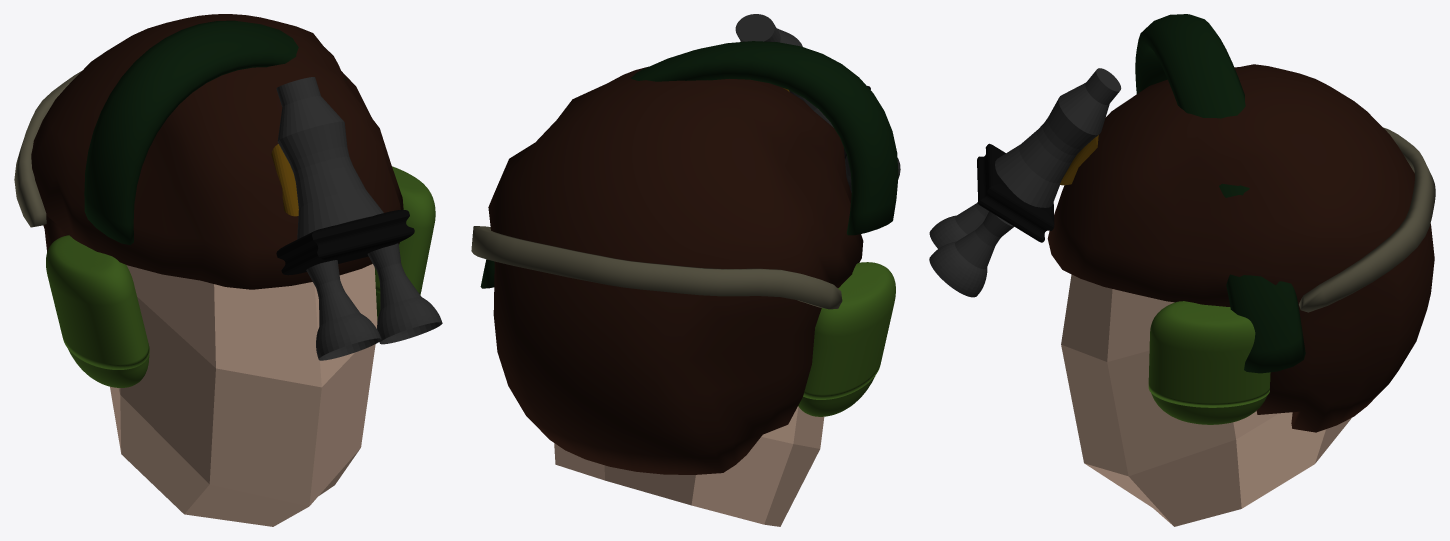
File: Character_Head.fbx
3 renders of one model, left to right at view 1: azimuth 30°, elevation 25°; view 2: azimuth 150°, elevation 25°; view 3: azimuth 270°, elevation 25°, orthographic. The views are drawn at different scales.
Parts seen in each view (by area): view 1: head, 球体, 环体.001, 柱体, 柱体.002, 立方体.001, 柱体.003, 柱体.004, 平面, 立方体; view 2: 球体, 环体.001, head, 平面, 柱体, 柱体.002; view 3: 球体, head, 环体.001, 柱体, 柱体.002, 平面, 柱体.004, 立方体.001, 柱体.003.
Part boxes in pixels (x1,y1,x2,y2): head: [110, 264, 377, 526]; 球体: [31, 14, 403, 289]; 环体.001: [84, 20, 346, 245]; 柱体: [46, 166, 435, 387]; 柱体.002: [276, 77, 383, 239]; 立方体.001: [276, 209, 414, 275]; 柱体.003: [306, 260, 381, 360]; 柱体.004: [367, 243, 442, 344]; 平面: [14, 70, 82, 227]; 立方体: [271, 144, 298, 216]; 球体: [488, 66, 863, 474]; 环体.001: [480, 41, 898, 288]; head: [554, 406, 824, 526]; 平面: [471, 226, 842, 309]; 柱体: [798, 262, 895, 416]; 柱体.002: [735, 14, 833, 127]; 球体: [1047, 64, 1434, 432]; head: [1061, 274, 1351, 526]; 环体.001: [1135, 14, 1305, 373]; 柱体: [1148, 301, 1270, 424]; 柱体.002: [995, 68, 1121, 207]; 平面: [1299, 127, 1435, 312]; 柱体.004: [929, 211, 1013, 297]; 立方体.001: [977, 143, 1054, 242]; 柱体.003: [929, 202, 988, 248].
Bounding box in the file's own units: 63.7 × 82.78 × 83.54.
